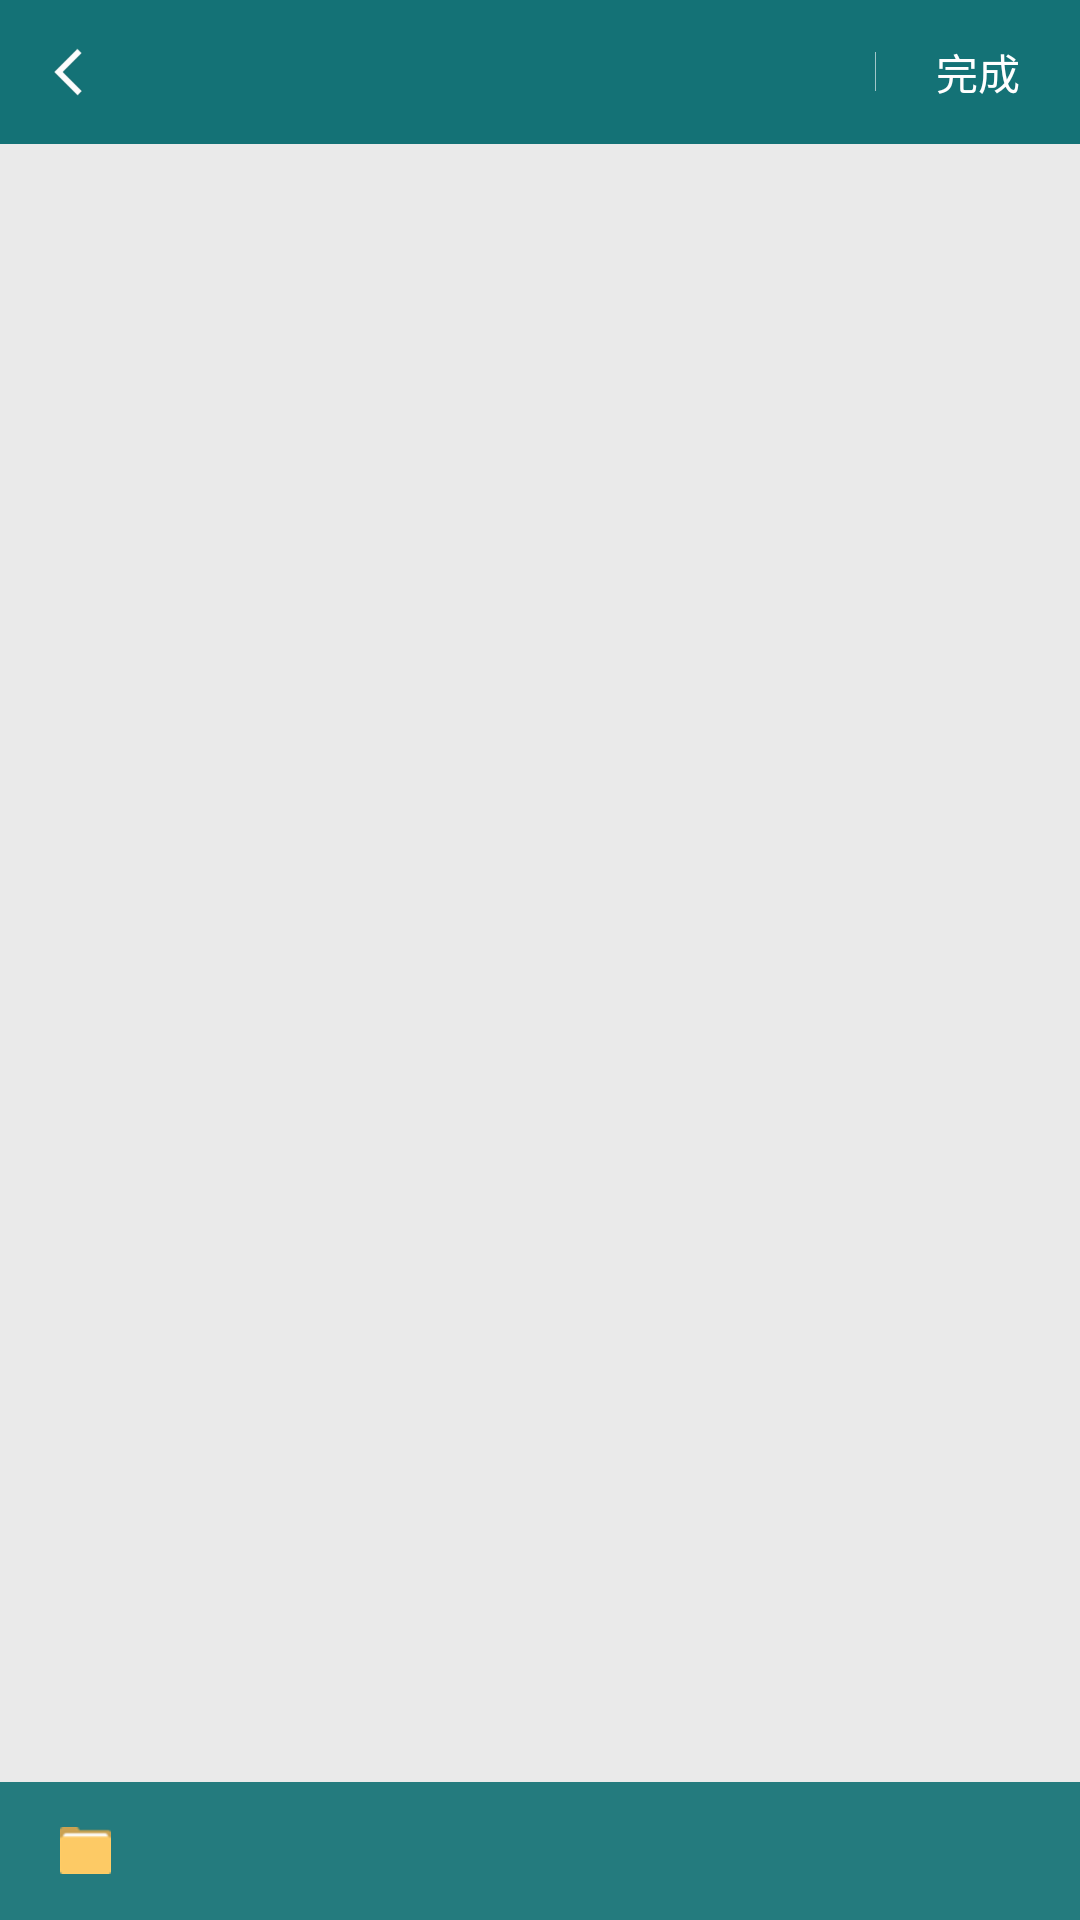

Icon bounding boxes for this 1080x1920 phone screenshot, format (x1, y1, x2, y2):
back: (54, 49, 82, 96)
